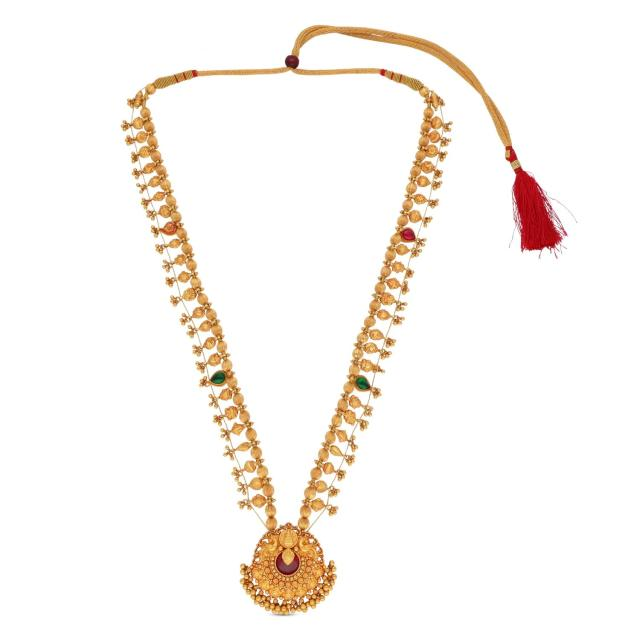missing gem: (162, 224, 176, 233)
